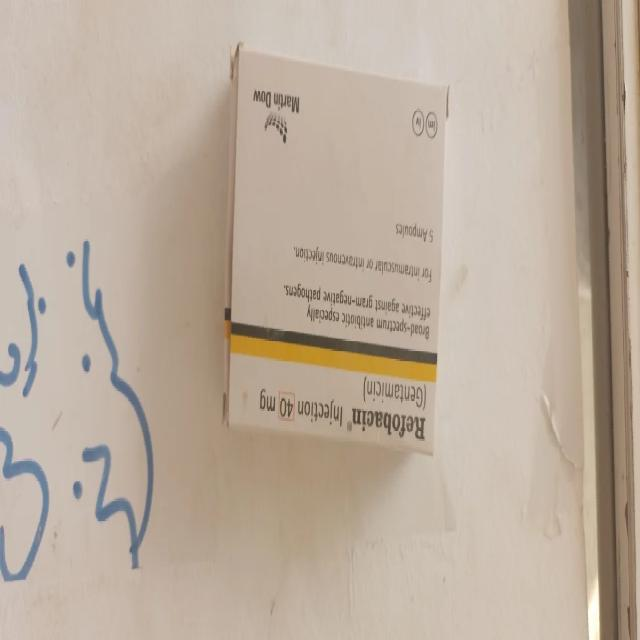drug-name: (345, 402, 427, 442)
